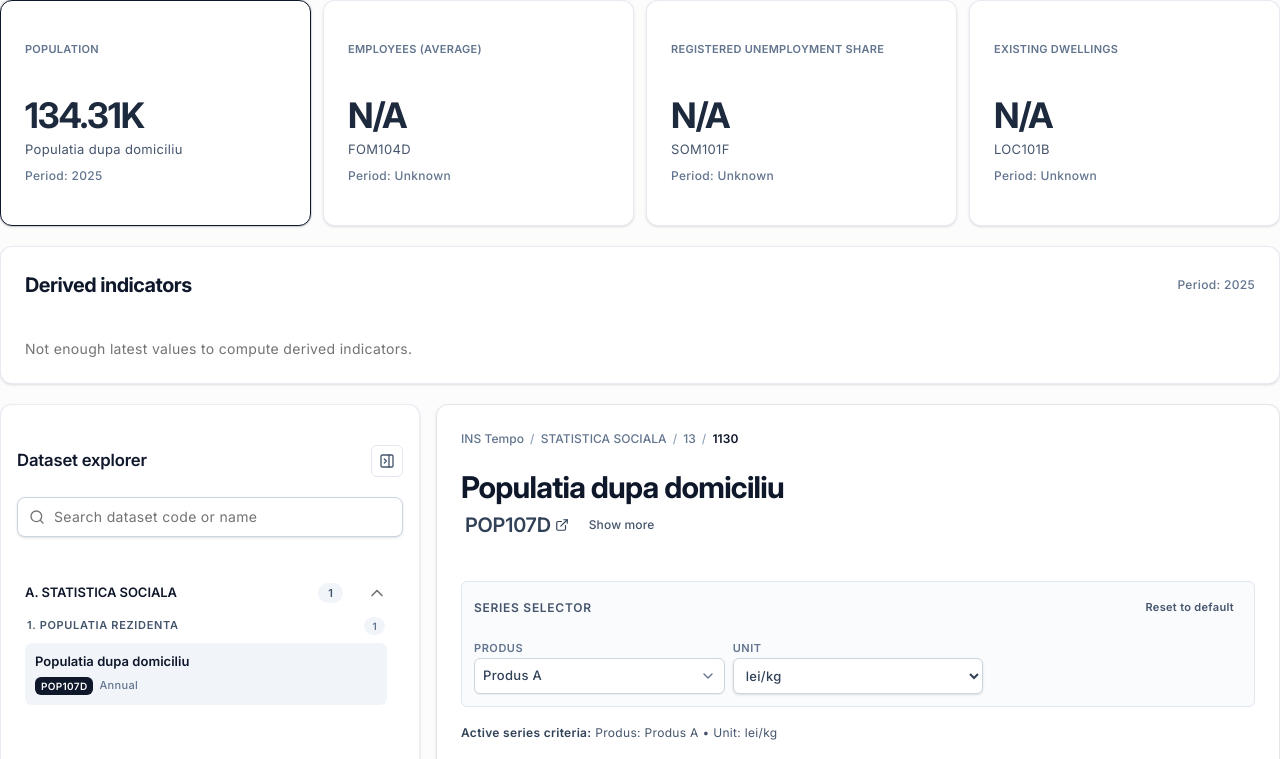
Test: InsStatsView › keeps chart populated by switching to a compatible tuple when unit selection changes
Expected: the text "Series selector" is shown, [474,599,592,617]
Select "lei/l" in the dropdown labelled "Unit" at (858,676), box [733,658,983,694]
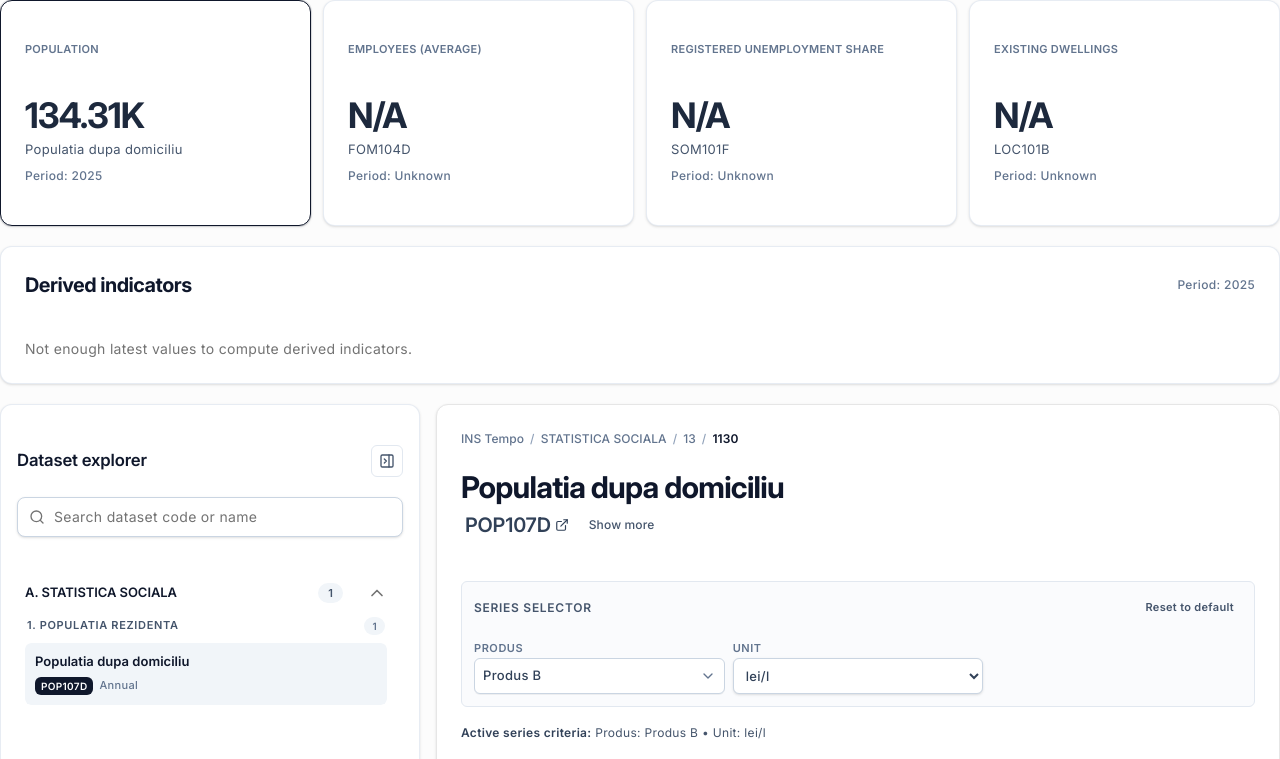
Now the text "Active series criteria: Produs: Produs B • Unit: lei/l" is shown, box [461,725,766,740]
